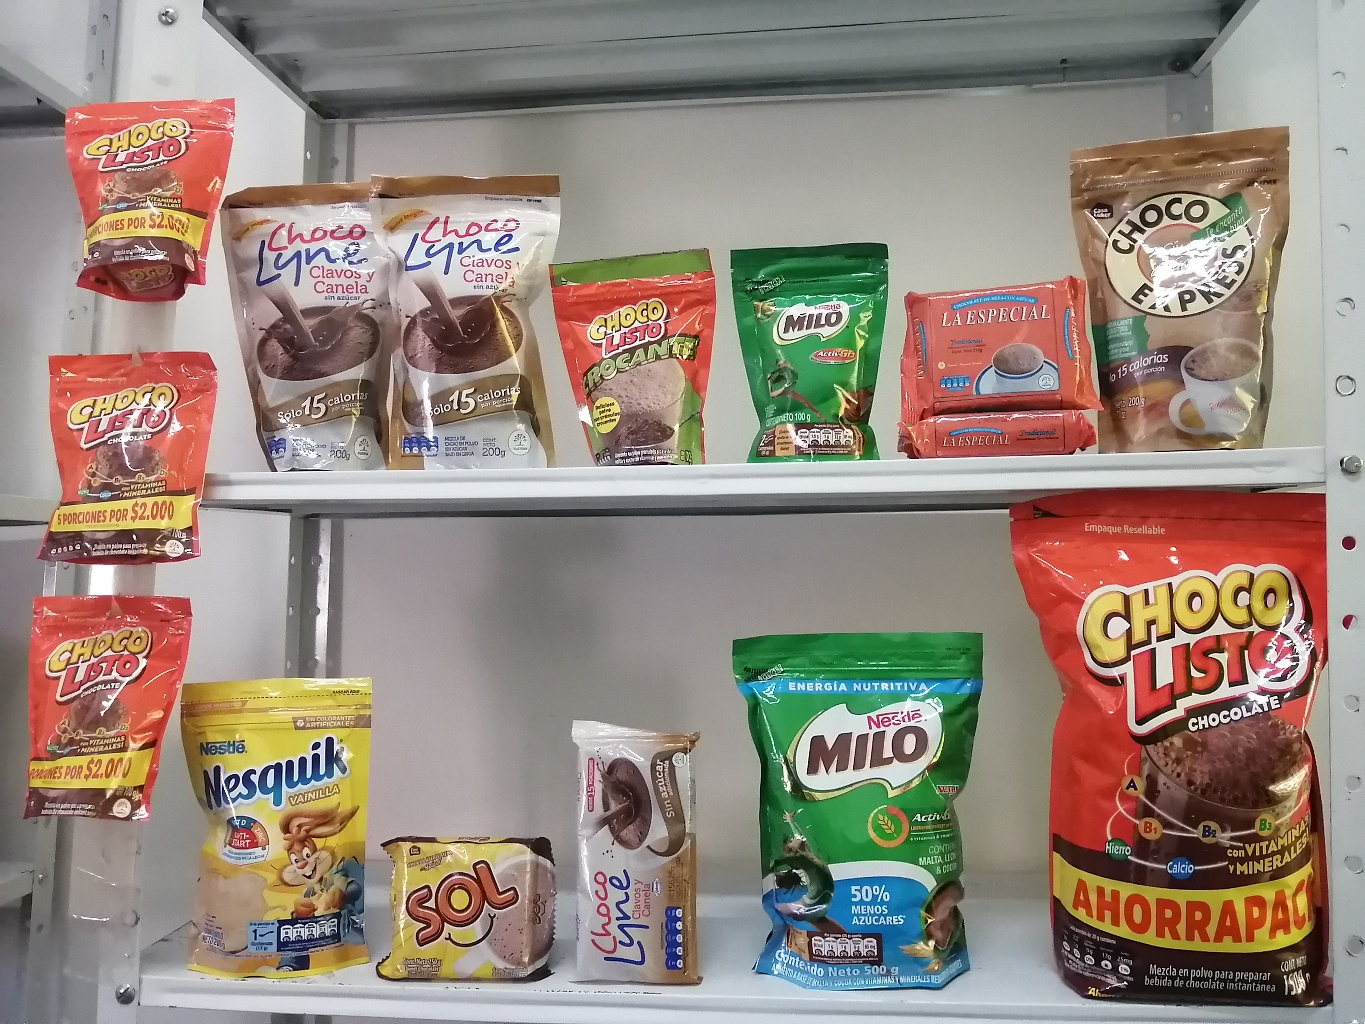COL0170102DYP10000: (554, 233, 733, 471)
COL0170103DYP1,500: (1025, 475, 1338, 993)
COL0170203DYP10000: (728, 248, 892, 467)
COL0170205DYP50000: (731, 618, 1005, 989)
COL0170306DYP20000: (190, 665, 386, 986)
